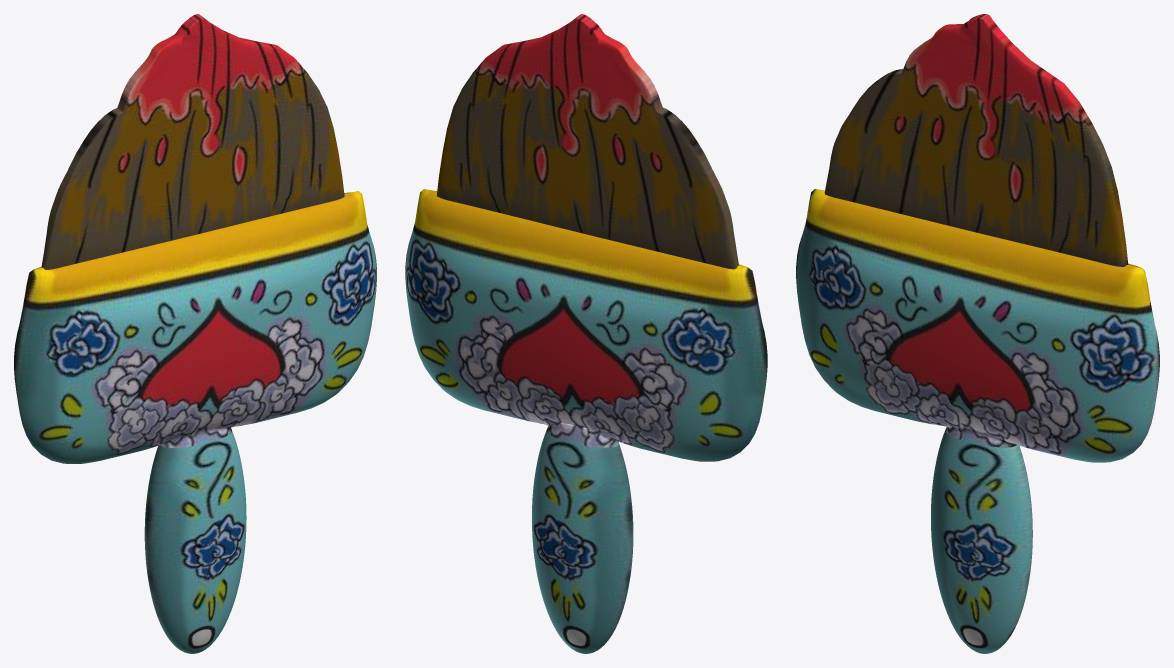
Rendered from Brocha.fbx.
3 views of the same model, side by side, from view 1: azimuth 30°, elevation 25°; view 2: azimuth 150°, elevation 25°; view 3: azimuth 330°, elevation 25° (orthographic).
Visible parts, largest first — view 1: nurbsToPoly2; view 2: nurbsToPoly2; view 3: nurbsToPoly2.
Boxes of the visible parts, left/top/right/bottom form: nurbsToPoly2: left=14, top=14, right=376, bottom=653; nurbsToPoly2: left=405, top=14, right=767, bottom=653; nurbsToPoly2: left=796, top=14, right=1159, bottom=653.
Bounding box in the file's own units: 2.88 × 4.82 × 0.5691.
Materials: 1 (1 with a texture image).
